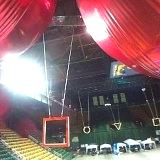Orange_Square_GShape: (42, 116, 70, 147)
Yellow_Circle_GShape: (82, 126, 91, 135)
Yellow_Square_GShape: (152, 118, 160, 126)
Yellow_Triangle_Gshape: (114, 123, 122, 131)
